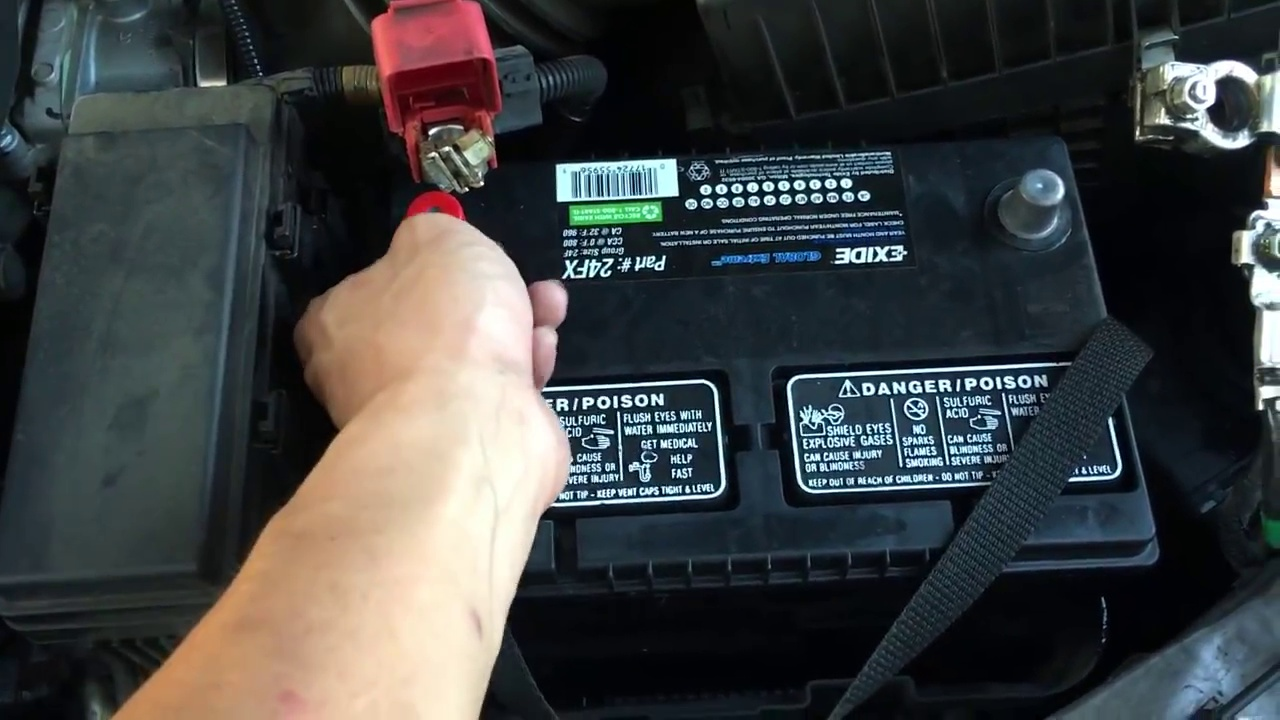battery: (407, 114, 1159, 568)
neg_disconnected: (956, 156, 1116, 272)
pos_touched: (309, 23, 568, 368)
